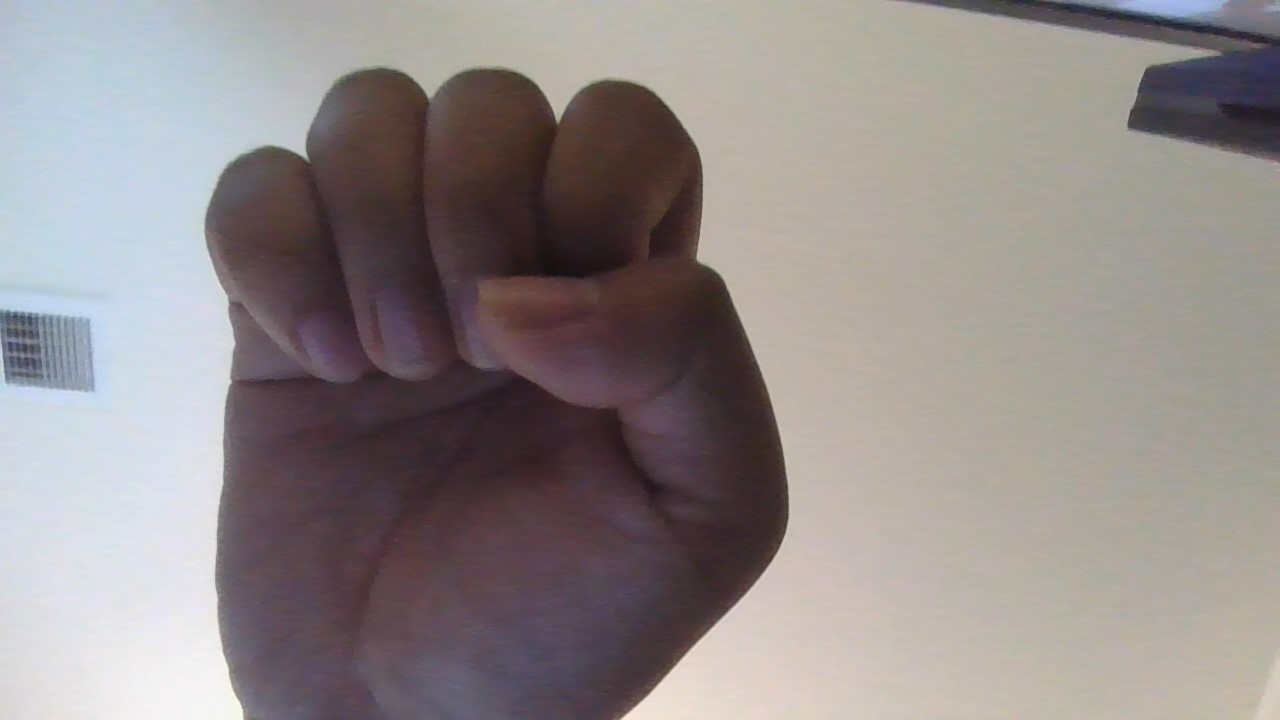e: (101, 37, 840, 720)
